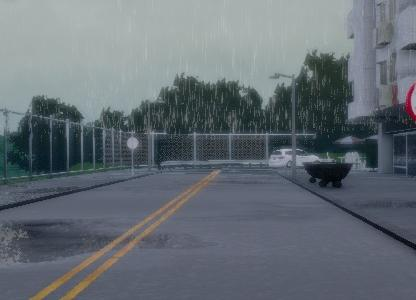Speed_30: (404, 79, 416, 129)
